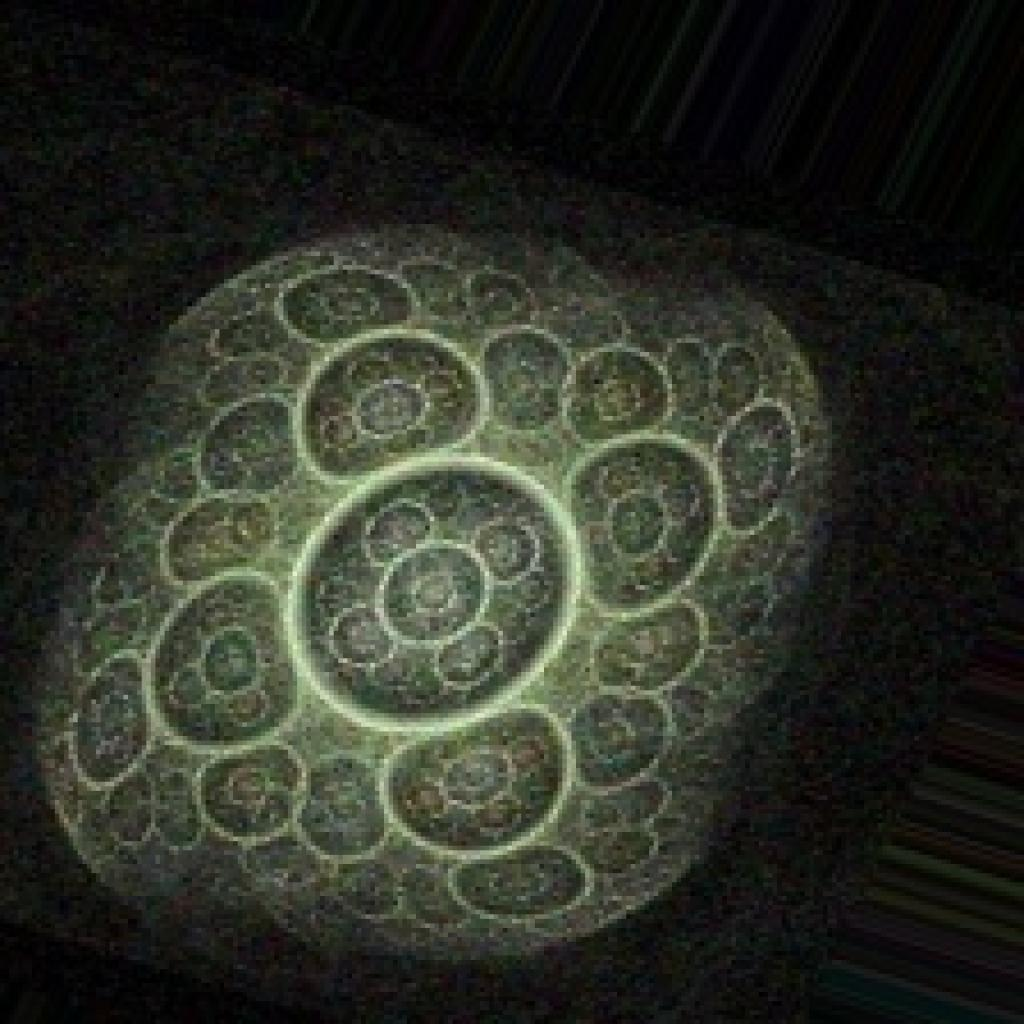Amoeba: (23, 215, 836, 964)
